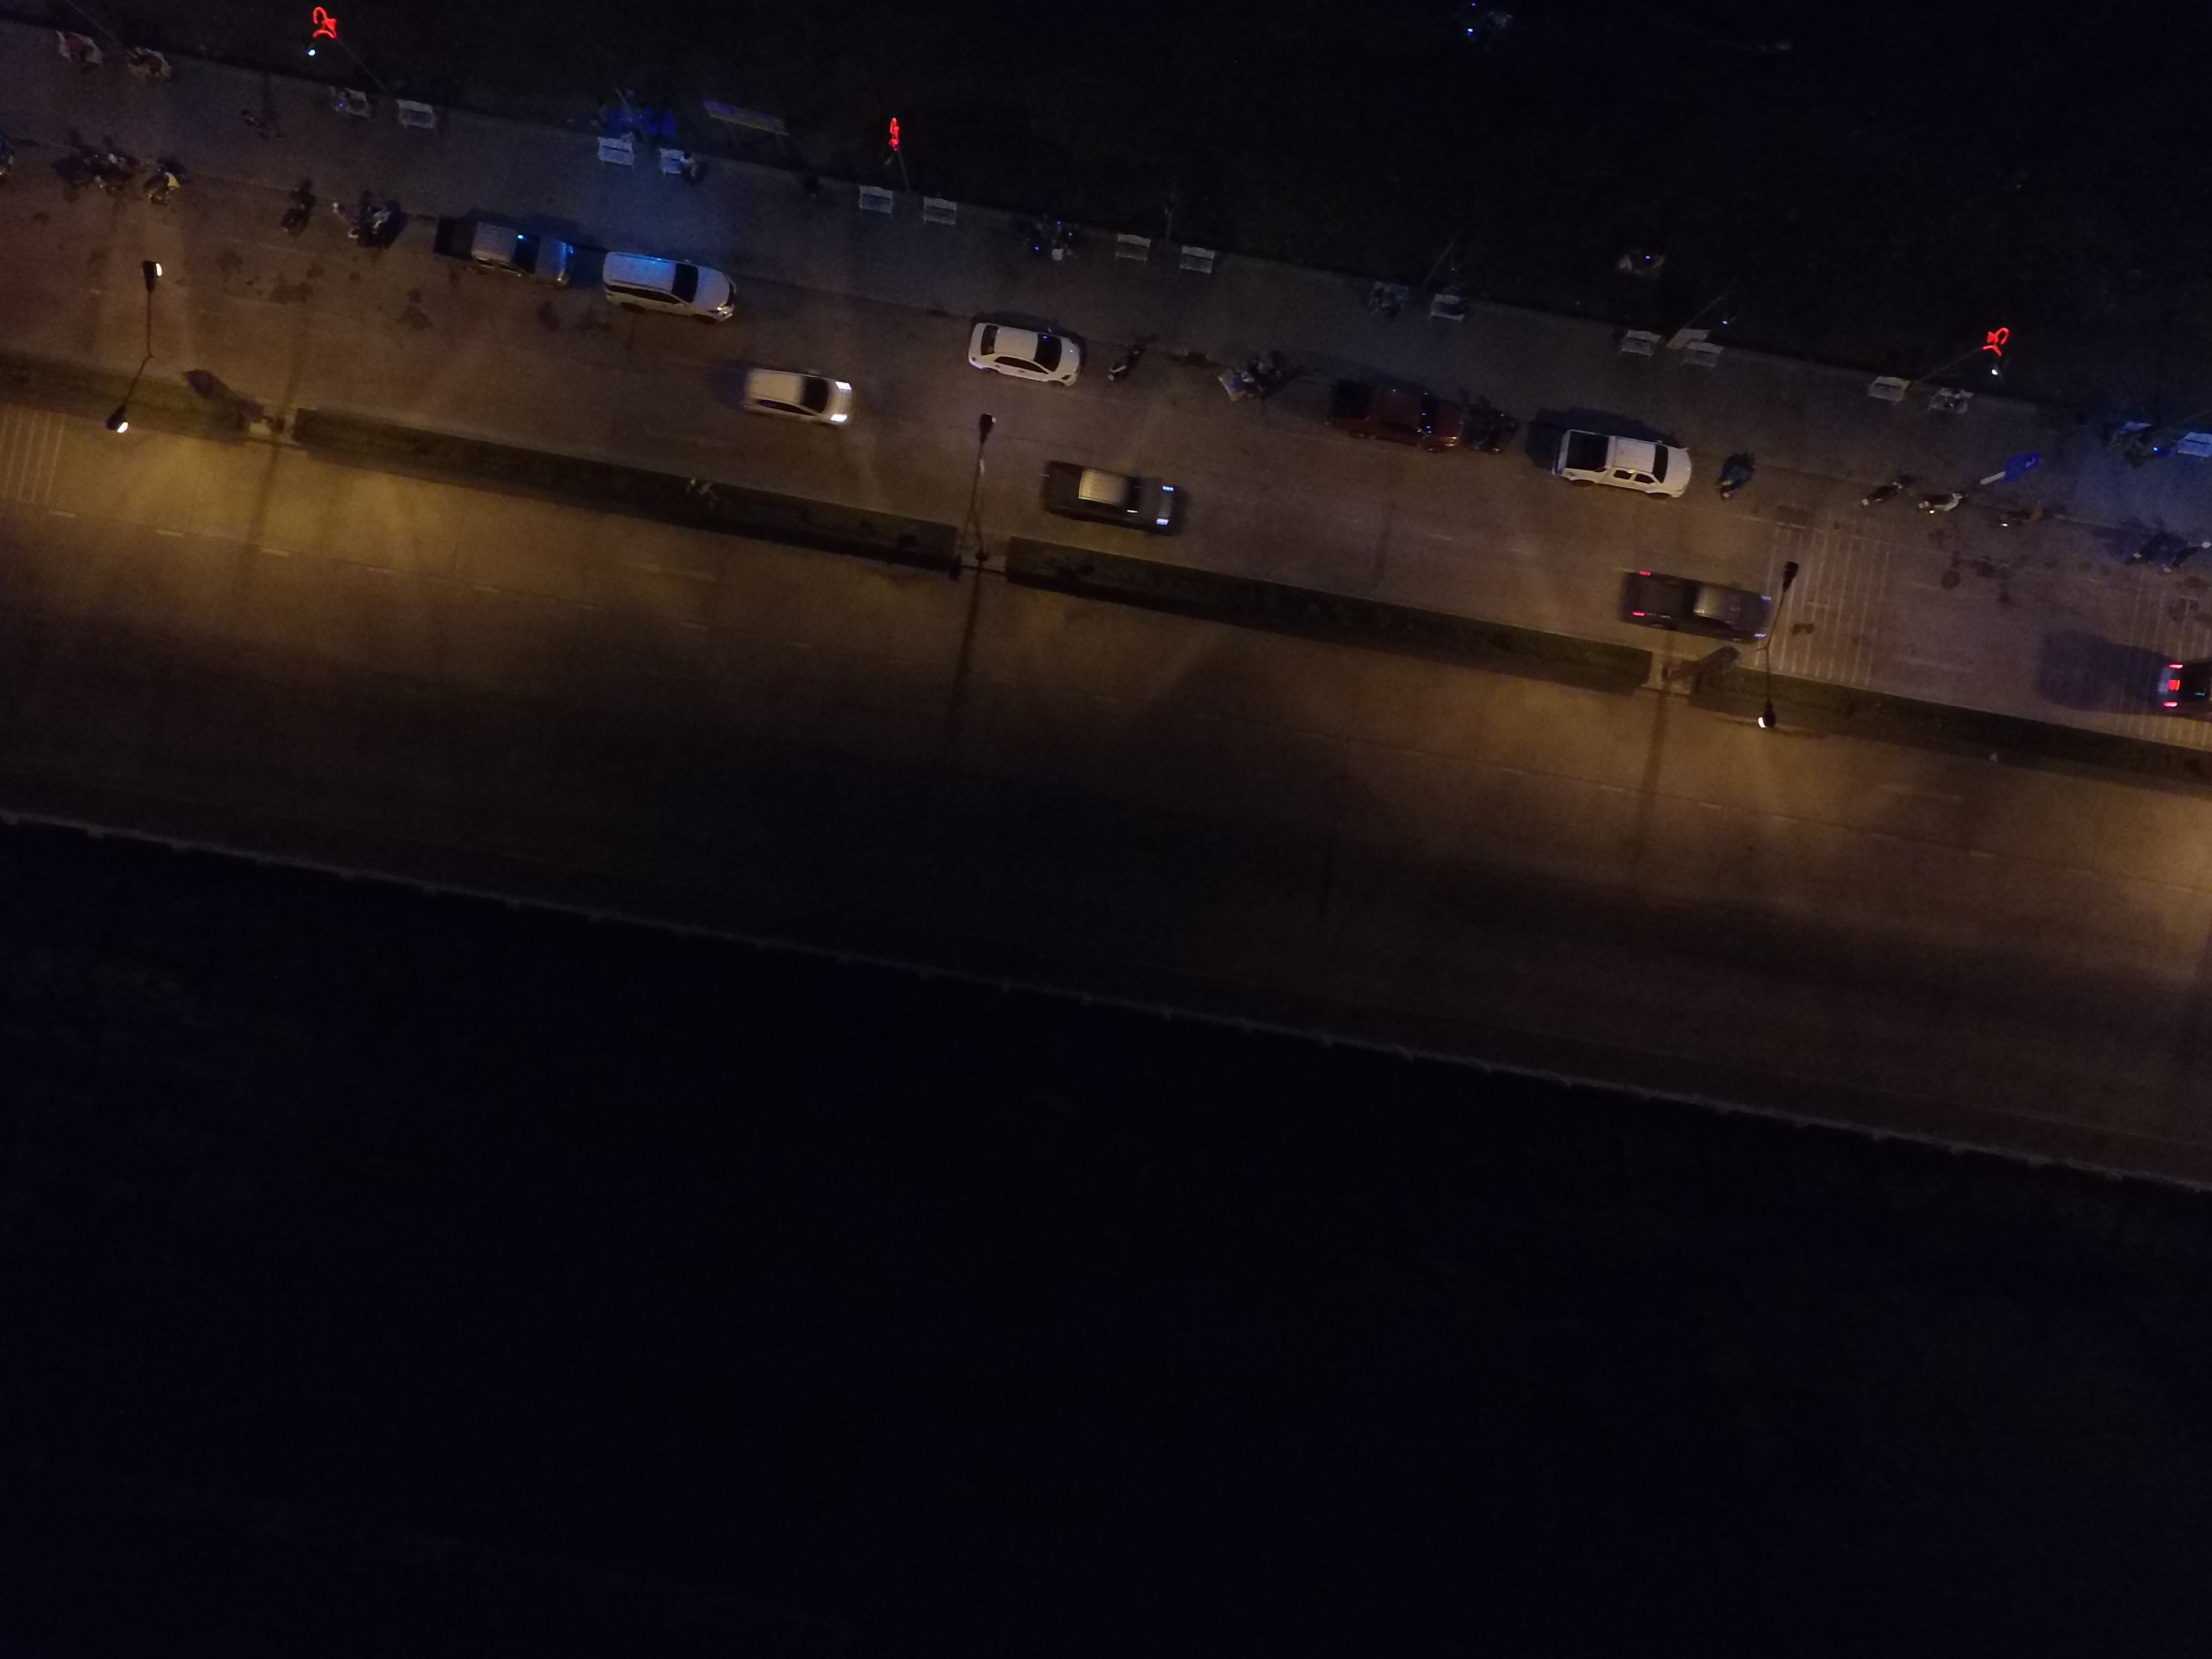car: (590, 244, 749, 336), (1332, 375, 1491, 467), (430, 204, 587, 296), (721, 350, 878, 443), (937, 312, 1094, 404), (1028, 455, 1184, 547), (1541, 415, 1698, 507), (1613, 559, 1770, 652)
